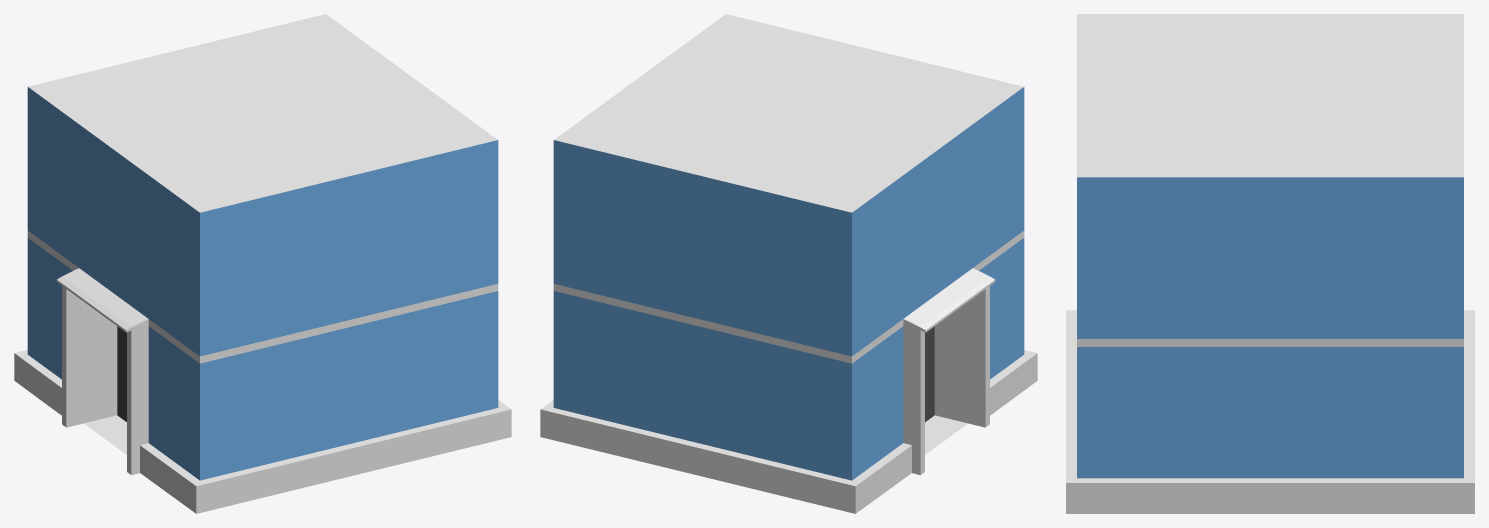
Rendered from building_1x1_6_g.glb.
The picture shows the model from 3 angles, left to right: view 1: azimuth 30°, elevation 25°; view 2: azimuth 150°, elevation 25°; view 3: azimuth 270°, elevation 25°; orthographic projection. The views are drawn at different scales.
Visible parts, largest first — view 1: Cube; view 2: Cube; view 3: Cube.
Part boxes in pixels (left/top/right/bottom): Cube: left=14, top=14, right=511, bottom=513; Cube: left=540, top=14, right=1037, bottom=513; Cube: left=1066, top=14, right=1474, bottom=513.
Size of the model in its own units: 1.87 by 1.6 by 1.79.
